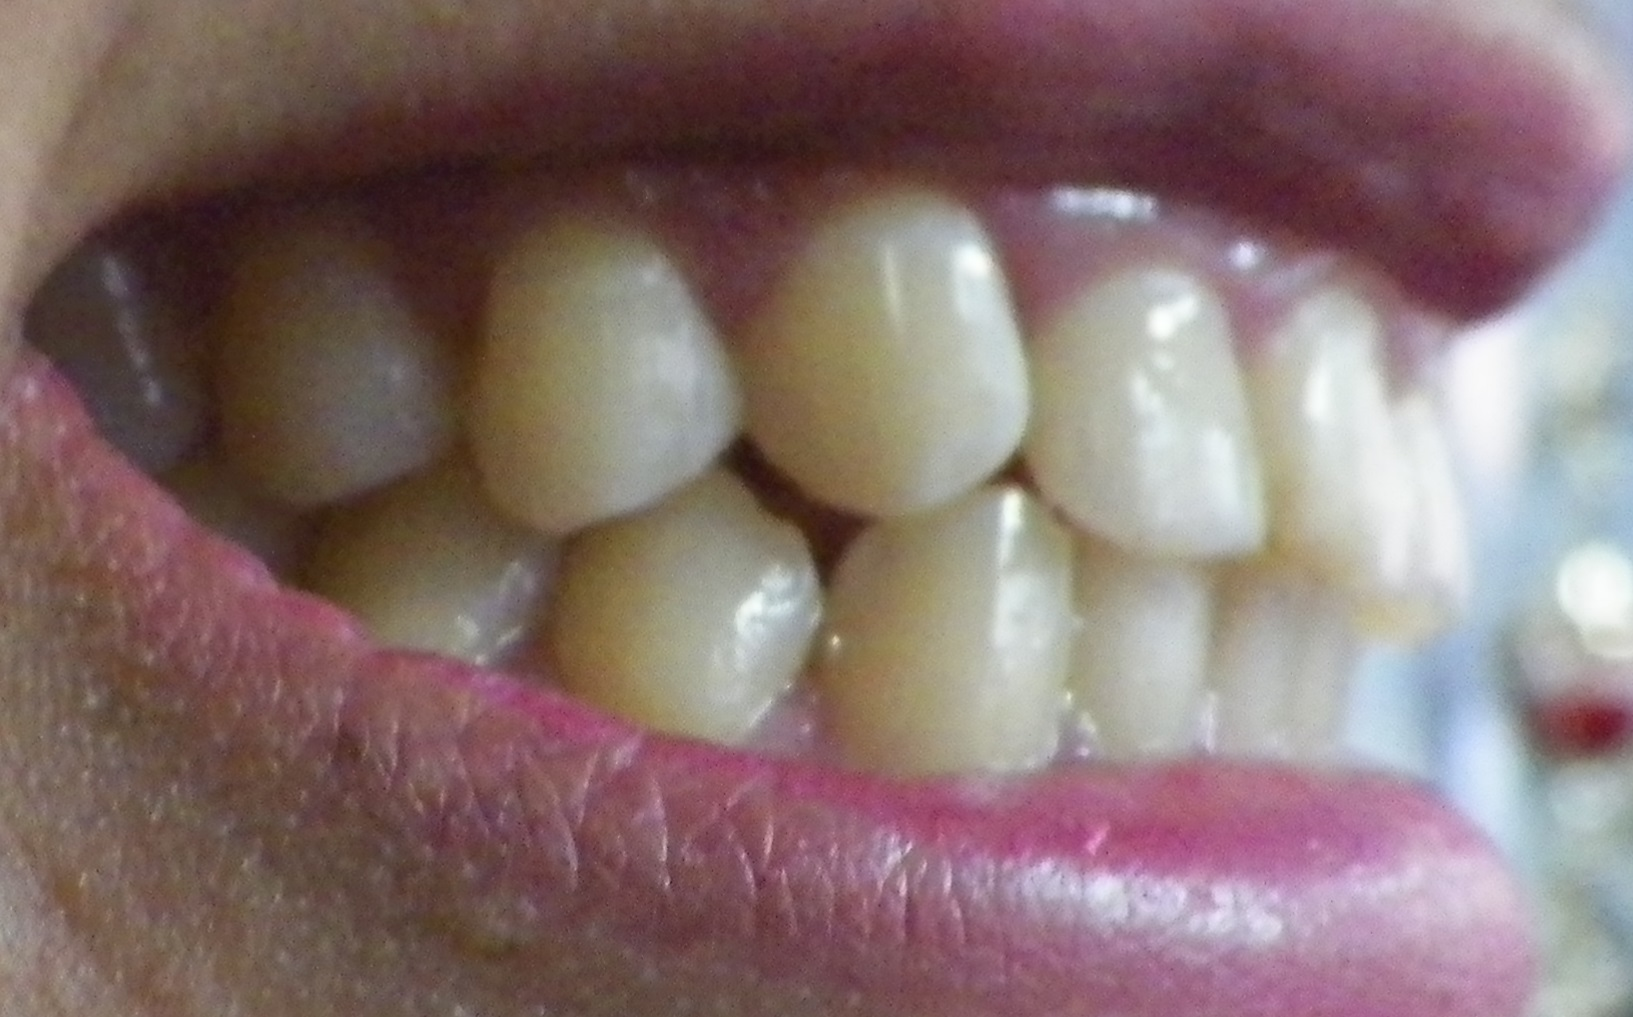boca: (50, 219, 1469, 787)
